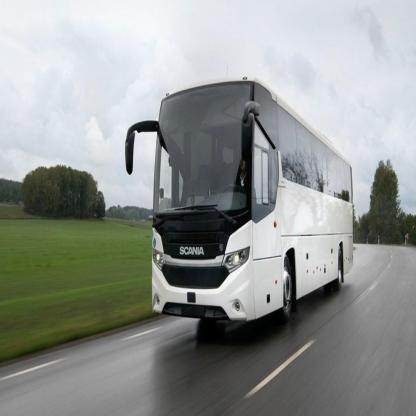Bus: (147, 73, 358, 348)
